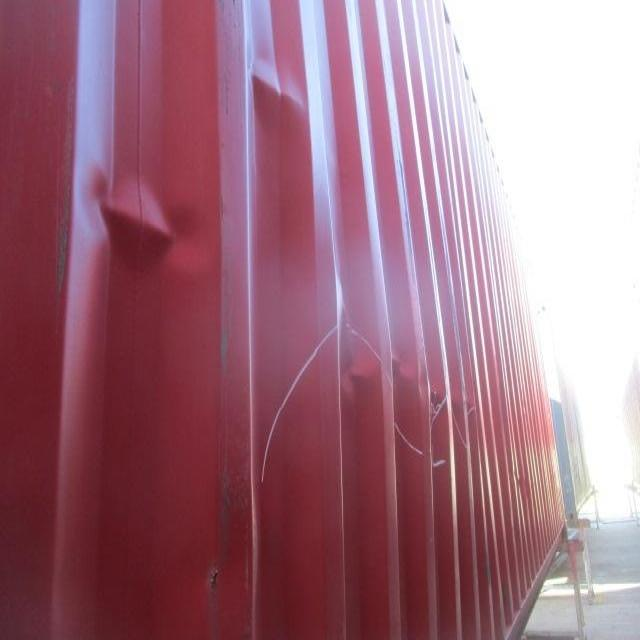dent: (67, 144, 230, 302), (327, 297, 484, 449), (239, 38, 319, 141)
